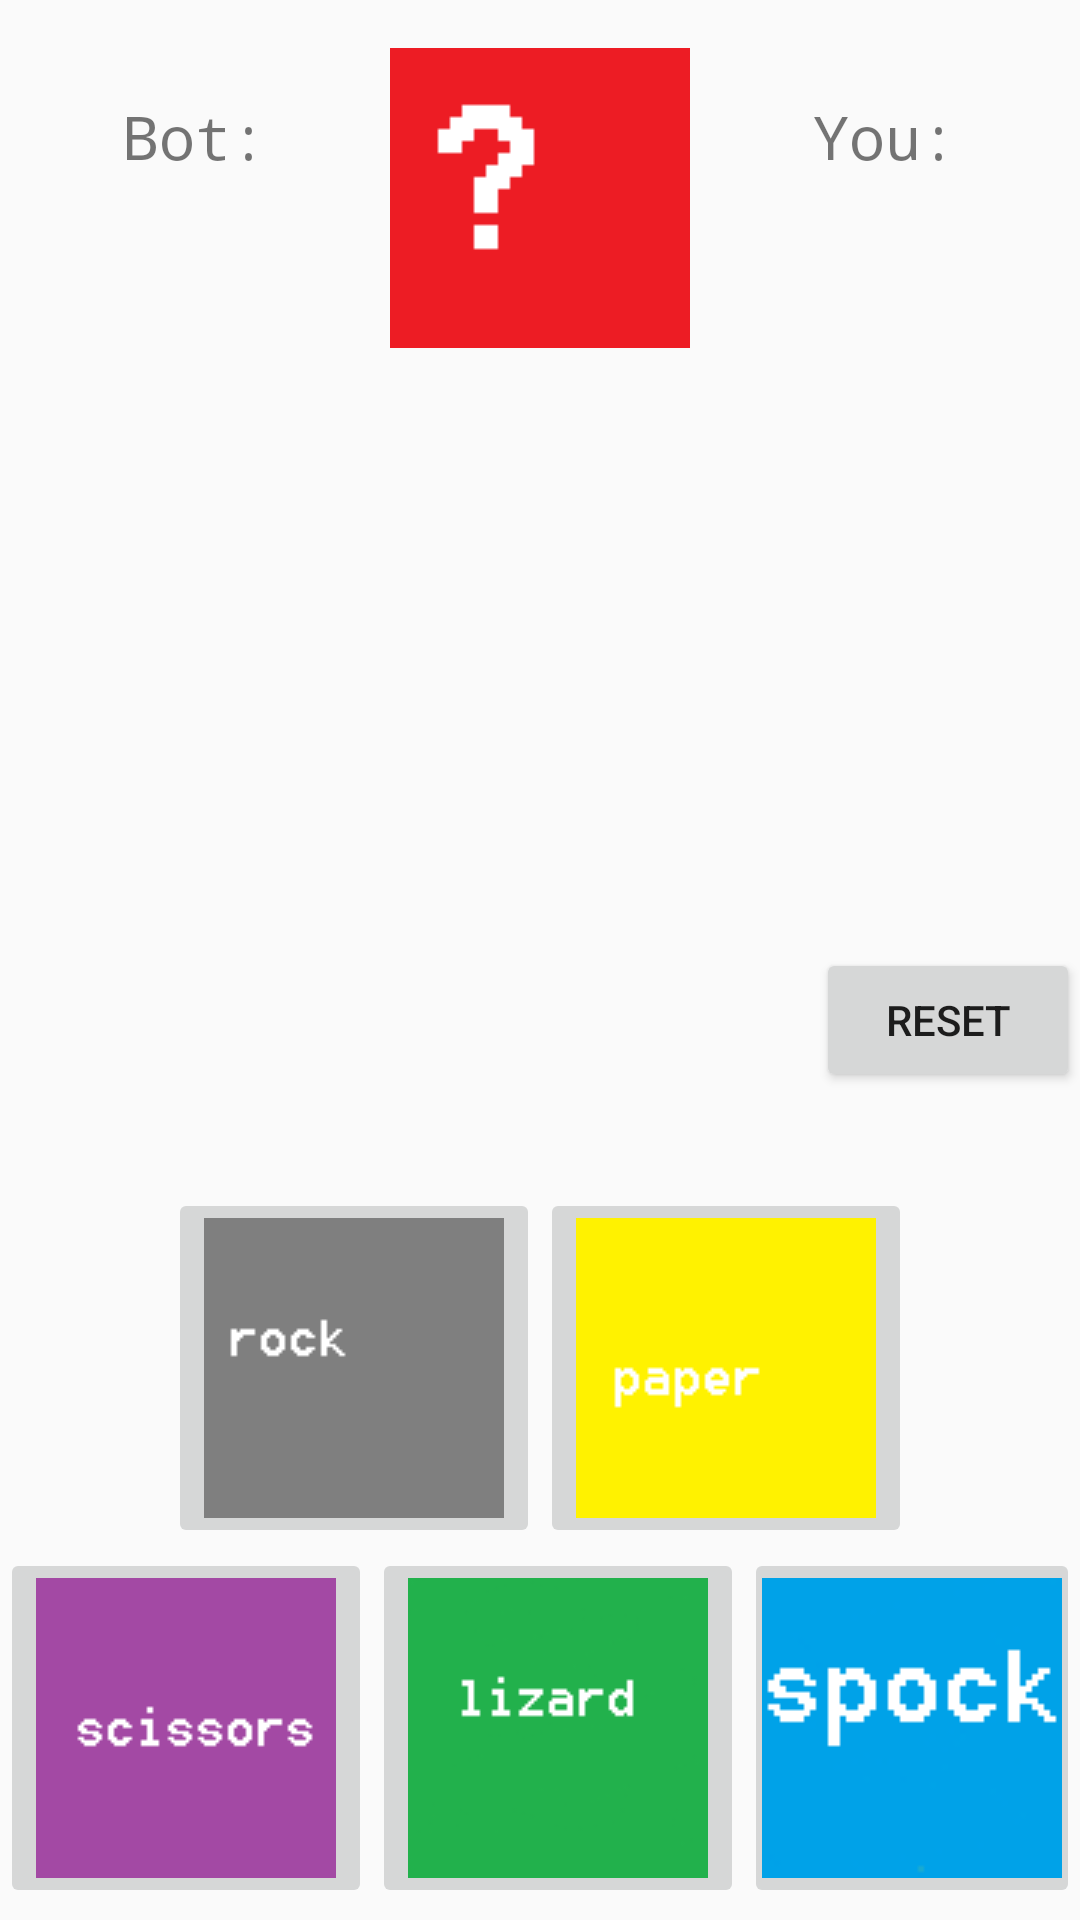

Named icons in this screenshot (1080*1920) and their bounding boxes, (x1, y1, x2, y2):
Bot choice view: (390, 48, 690, 348)
